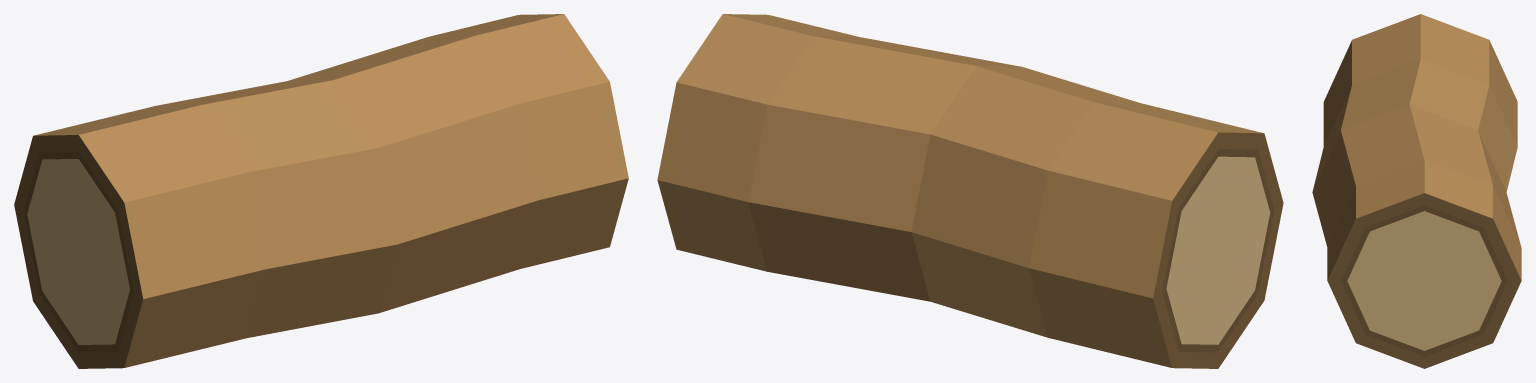
File: log.glb
3 renders of one model, left to right at view 1: azimuth 30°, elevation 25°; view 2: azimuth 150°, elevation 25°; view 3: azimuth 270°, elevation 25°, orthographic. The views are drawn at different scales.
Visible parts, largest first — view 1: Cylinder.005; view 2: Cylinder.005; view 3: Cylinder.005.
Part boxes in pixels (x1,y1,x2,y2): Cylinder.005: (14, 14, 628, 368); Cylinder.005: (657, 14, 1283, 368); Cylinder.005: (1312, 14, 1521, 368).
Bounding box in the file's own units: 1.31 × 0.6 × 0.6465.
